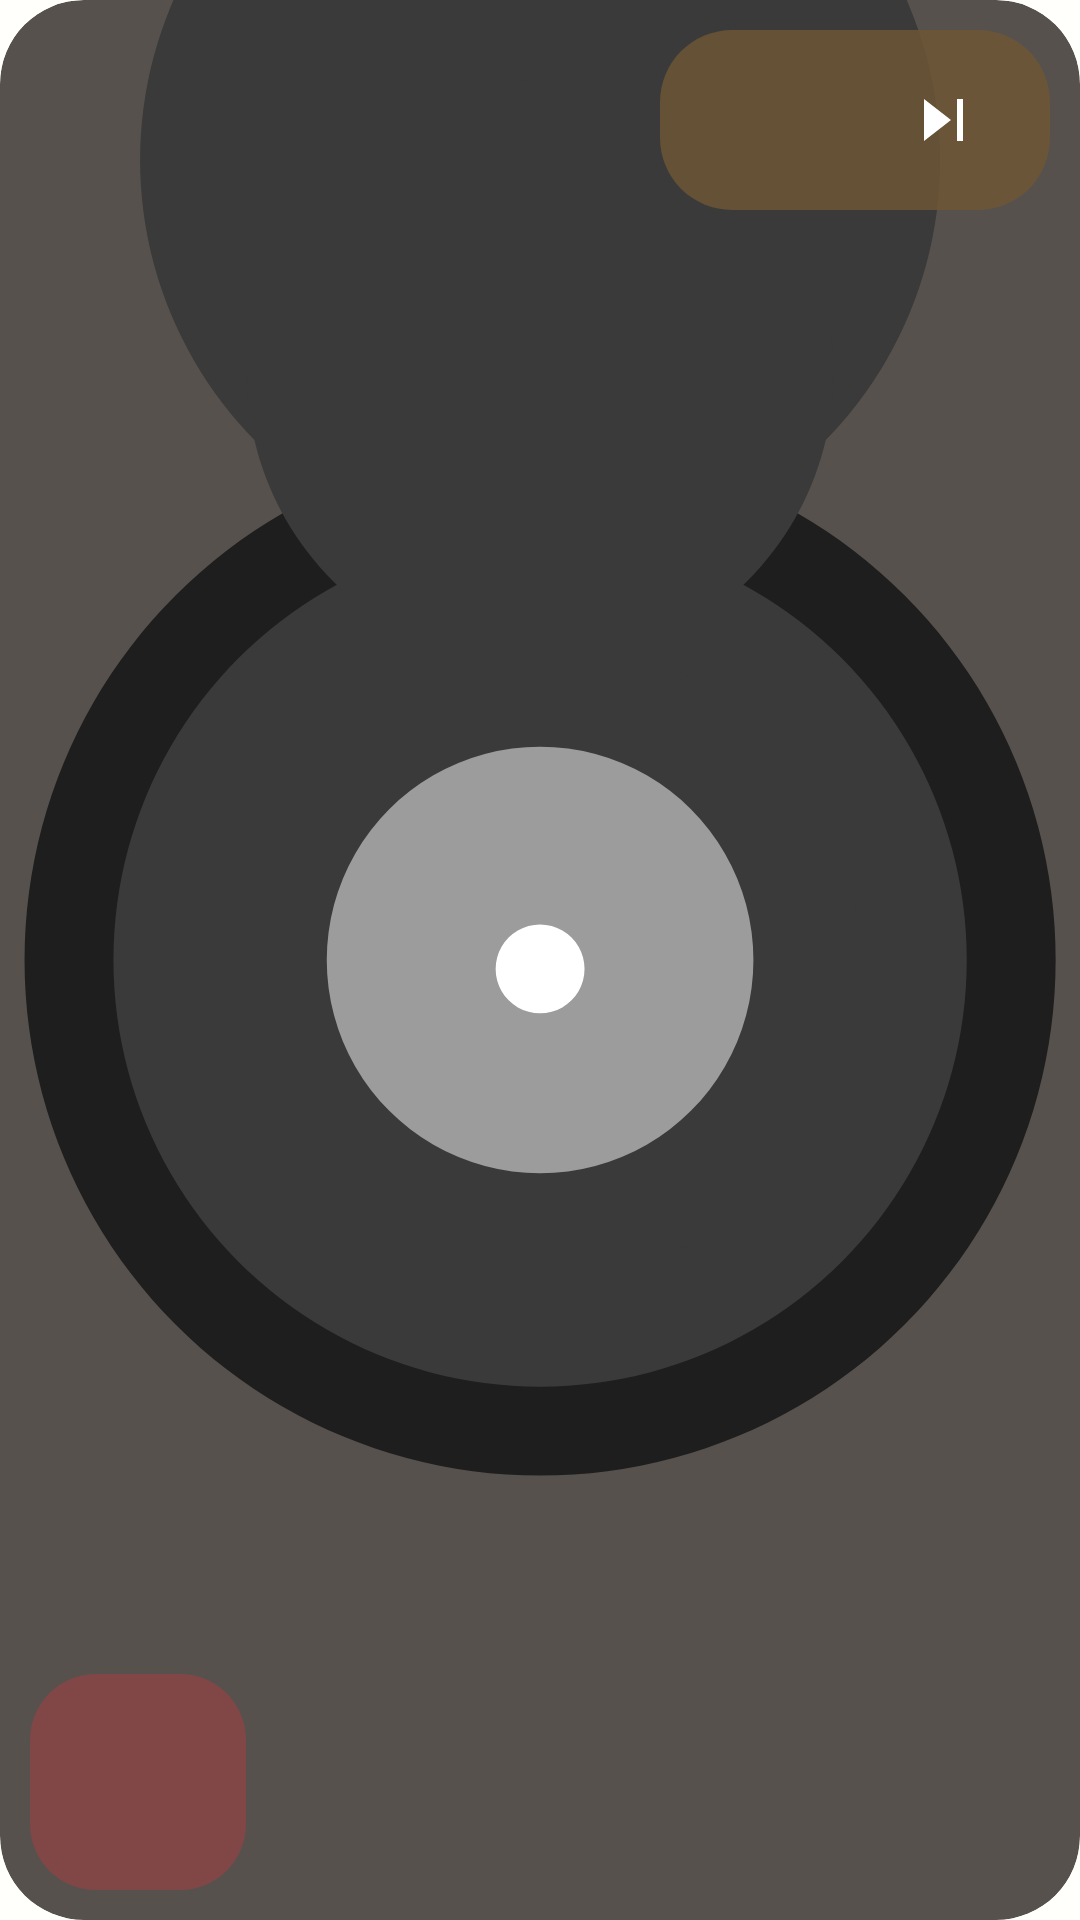

Icon click points for this 1080 x 1920 phone screenshot, format [x,y]:
Next song: [945,120]
